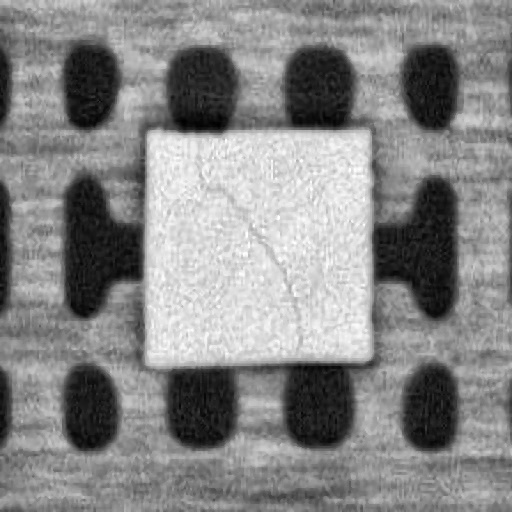DIE_CRACK: (195, 133, 299, 350)
